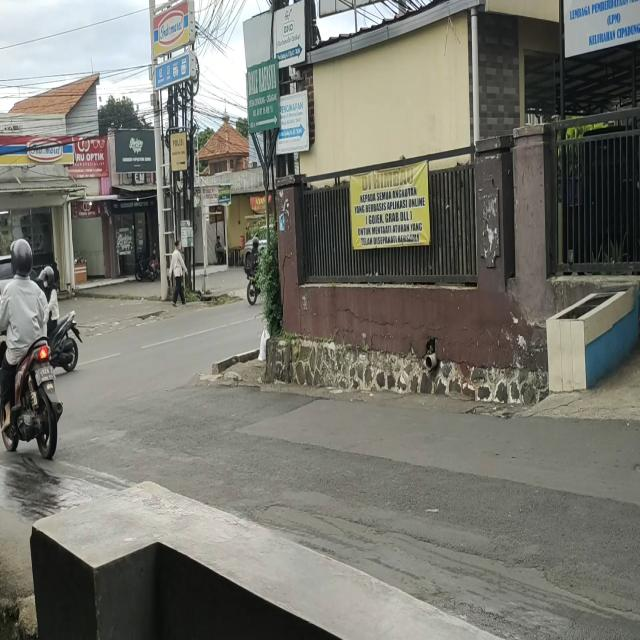helmet: (13, 241, 31, 272), (46, 271, 54, 288)
